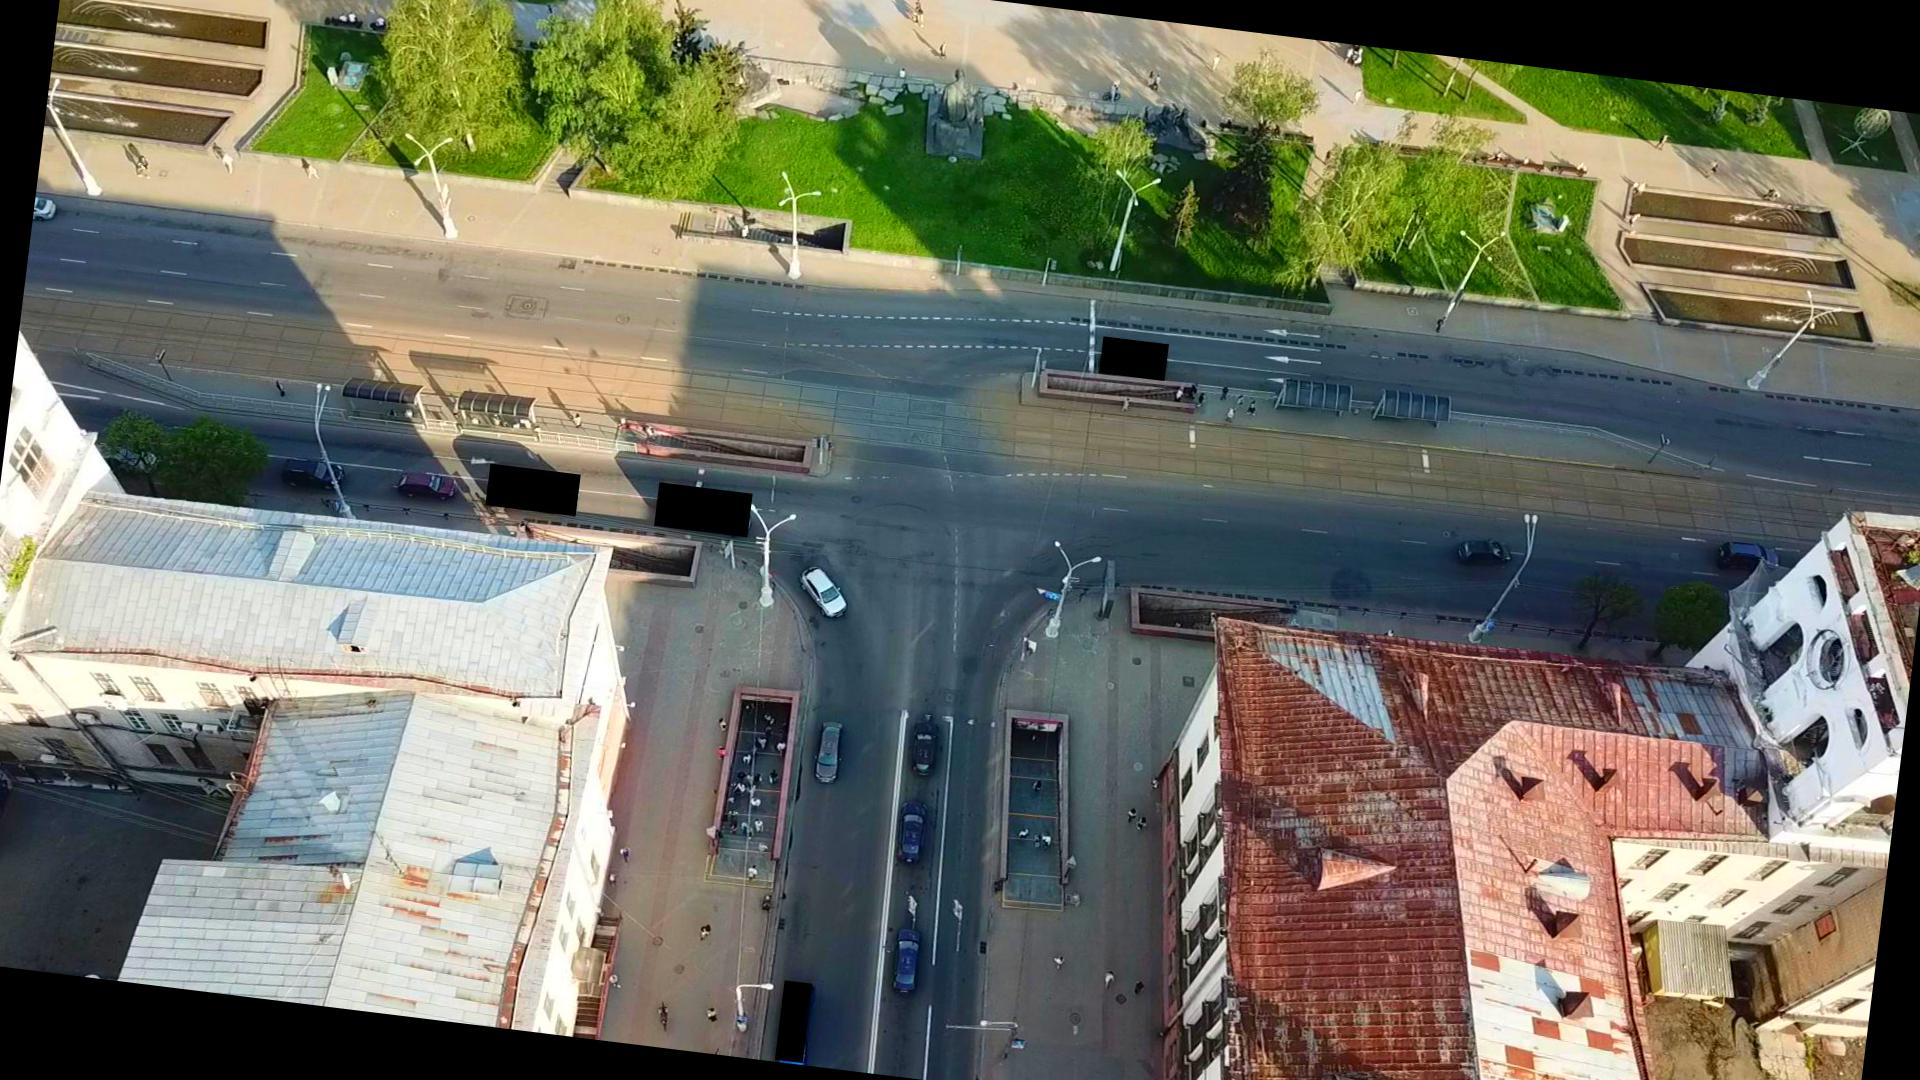vehicle: (794, 562, 852, 620), (82, 438, 158, 482), (890, 794, 930, 866), (1712, 536, 1780, 573), (888, 925, 922, 997), (811, 718, 846, 784), (390, 469, 458, 502), (905, 716, 941, 778), (281, 456, 344, 491), (1453, 534, 1513, 570)
